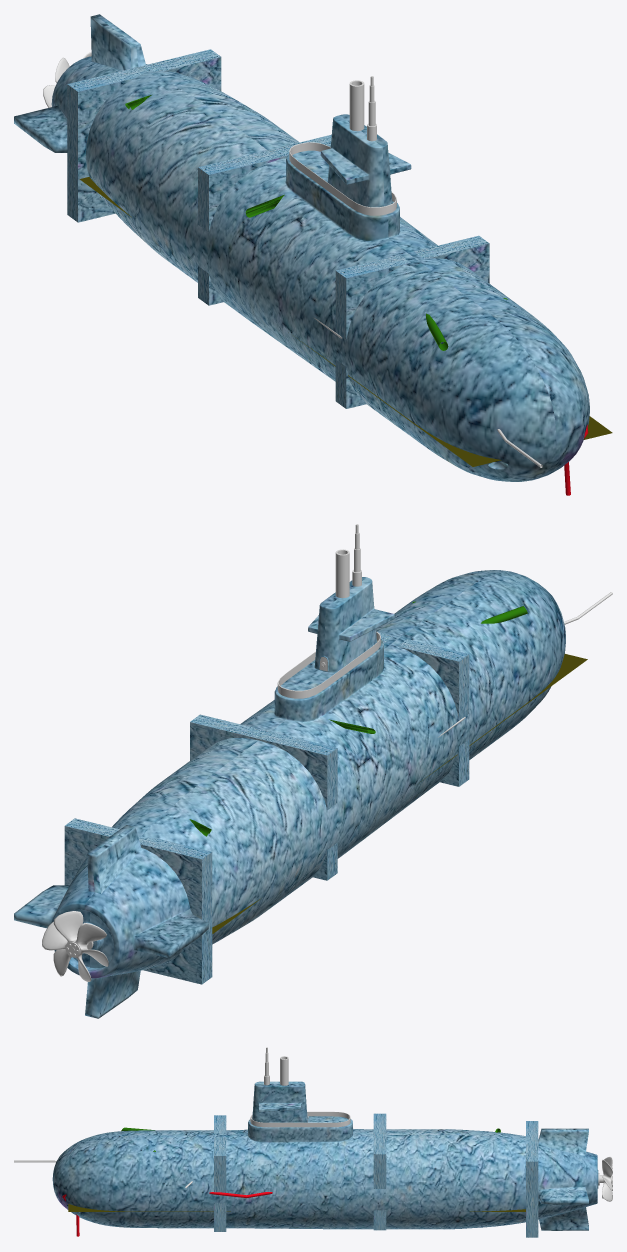
The model's file is submarine_new 1.fbx.
3 views of the same model, one above another, from view 1: azimuth 30°, elevation 25°; view 2: azimuth 150°, elevation 25°; view 3: azimuth 270°, elevation 25° (orthographic). The views are drawn at different scales.
Parts seen in each view (by area): view 1: 02_low, Walls 1, Walls 3, Walls 2, 03_low, Floor, Cube.010, 05_low; view 2: 02_low, Walls 1, Walls 2, Walls 3, 10_low, 03_low, Floor, Cube.010, 05_low; view 3: 02_low, Walls 1, Walls 3, Walls 2, 03_low, 10_low, Floor, Cube.012.
Boxes of the visible parts, x1,y1,x2,y2 form: 02_low: [14, 14, 589, 481]; Walls 1: [67, 49, 221, 222]; Walls 3: [335, 235, 489, 408]; Walls 2: [198, 134, 331, 305]; 03_low: [289, 142, 396, 215]; Floor: [79, 177, 612, 466]; Cube.010: [125, 95, 507, 350]; 05_low: [349, 80, 364, 131]; 02_low: [14, 570, 565, 1018]; Walls 1: [64, 818, 212, 984]; Walls 2: [190, 714, 337, 880]; Walls 3: [377, 631, 469, 786]; 10_low: [42, 911, 108, 981]; 03_low: [277, 631, 380, 698]; Floor: [212, 654, 587, 933]; Cube.010: [189, 601, 527, 836]; 05_low: [335, 549, 349, 598]; 02_low: [52, 1081, 598, 1230]; Walls 1: [526, 1121, 538, 1237]; Walls 3: [214, 1115, 226, 1231]; Walls 2: [373, 1113, 386, 1230]; 03_low: [250, 1111, 350, 1127]; 10_low: [602, 1157, 612, 1201]; Floor: [68, 1204, 525, 1211]; Cube.012: [62, 1192, 272, 1236].
Bounding box in the file's own units: 368 × 667 × 2003.
